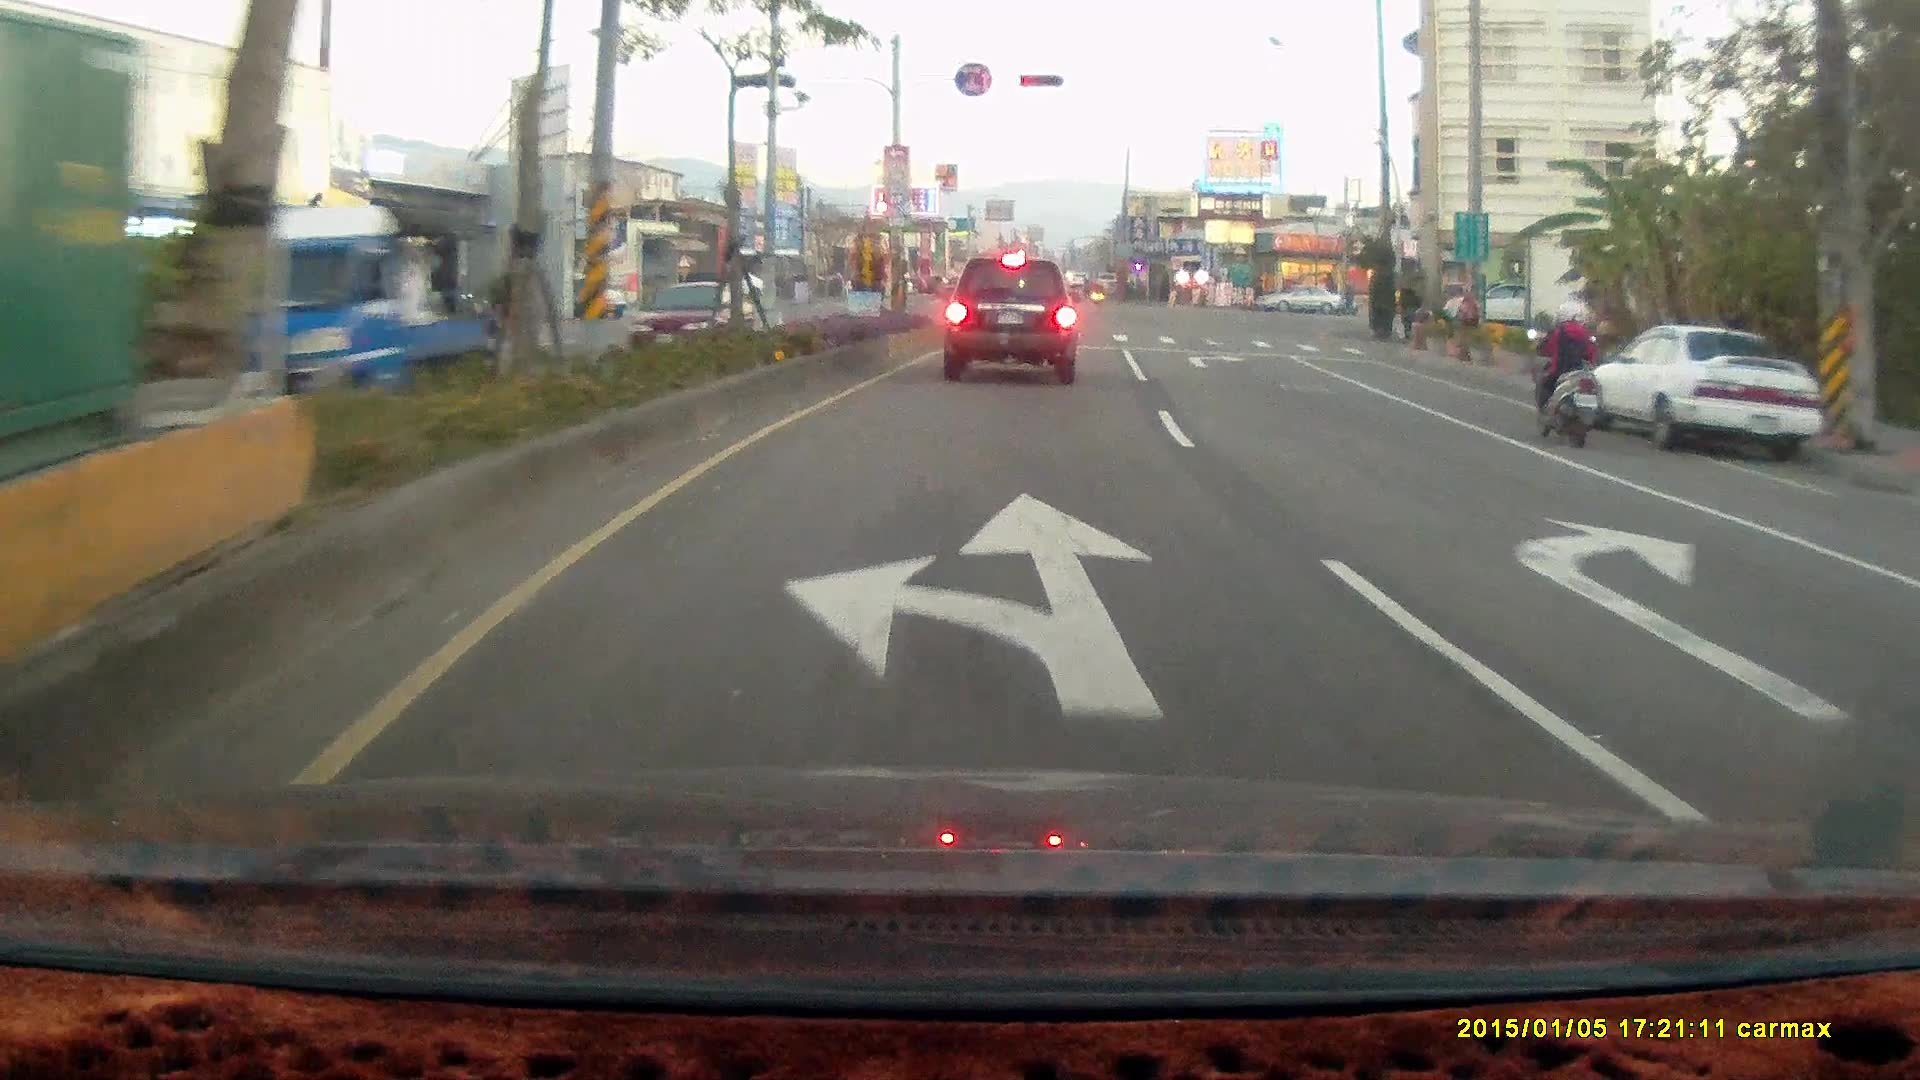rider: (1523, 298, 1604, 448), (1331, 280, 1359, 317)
vehicle: (178, 203, 496, 416), (1573, 322, 1827, 464), (1573, 322, 1826, 462), (940, 255, 1078, 385), (1896, 493, 1920, 836), (1883, 528, 1920, 690), (1442, 279, 1552, 328), (1253, 281, 1343, 315)
